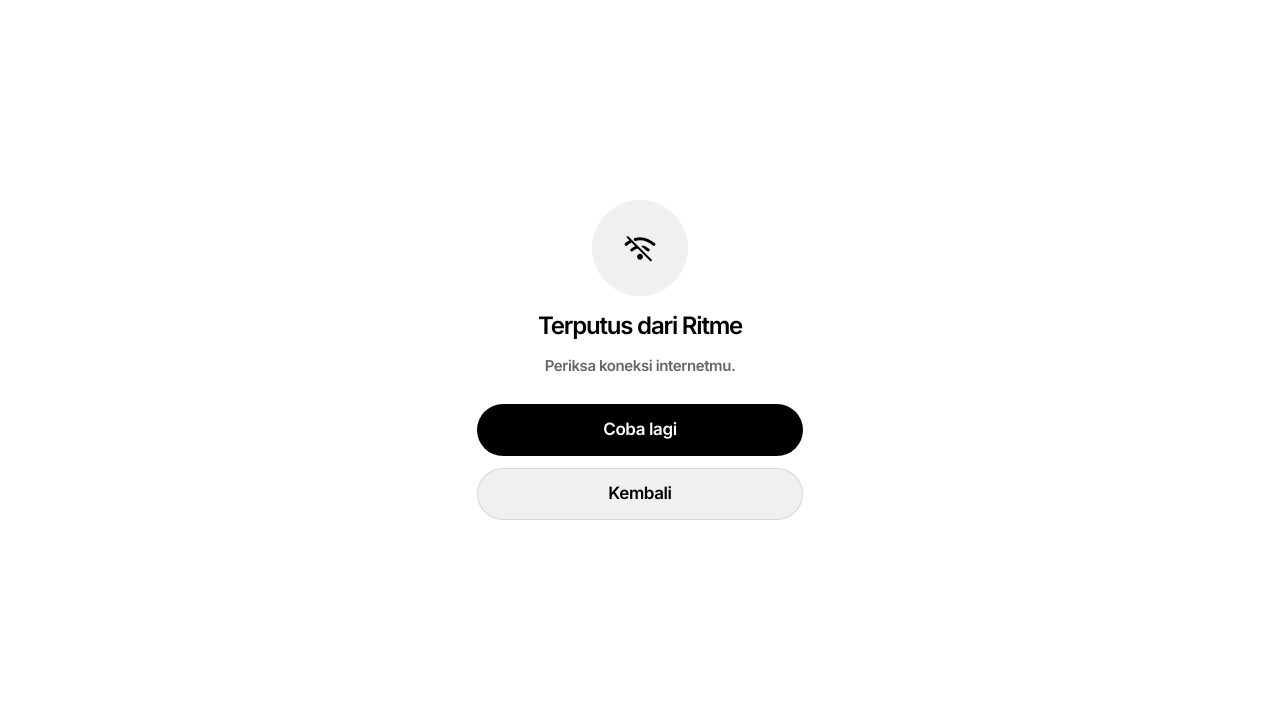
Test: App connection states › "Coba lagi" with nothing to retry goes back to the start screen
Click the button "Coba lagi" at {"x": 640, "y": 430}, box [477, 404, 803, 456]
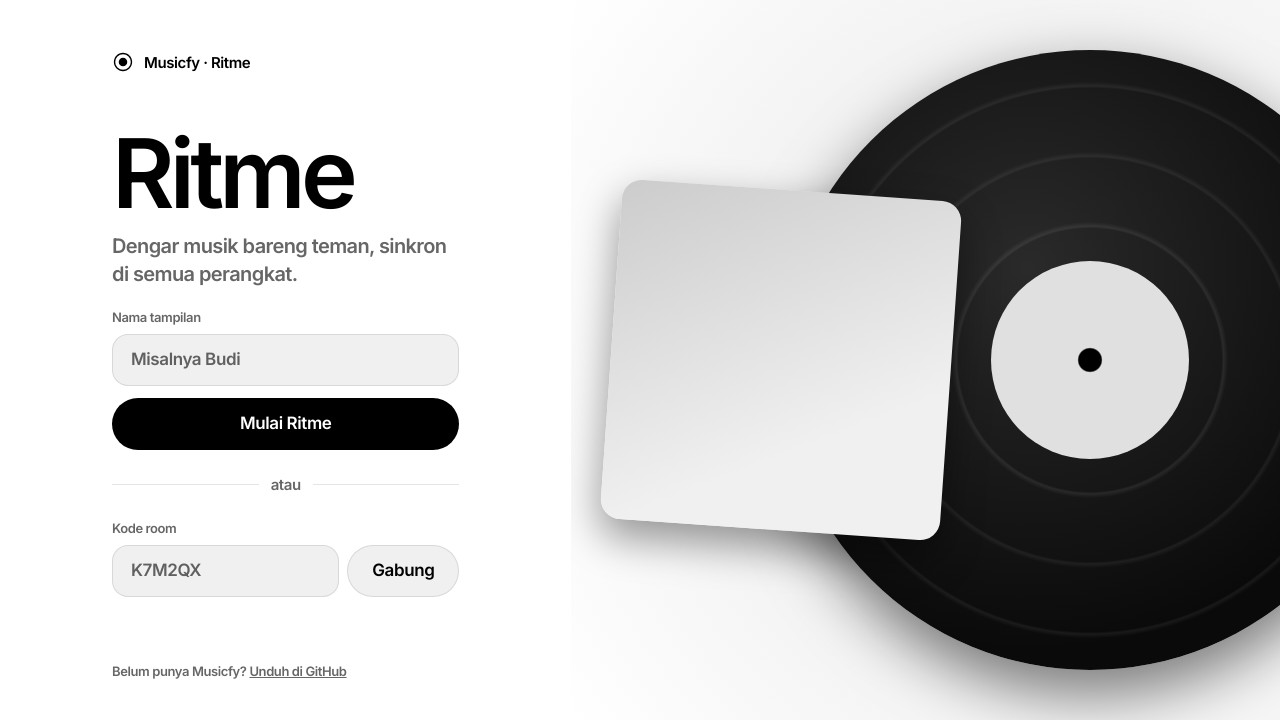
Now the button "Mulai Ritme" is shown, box [112, 398, 459, 450]
